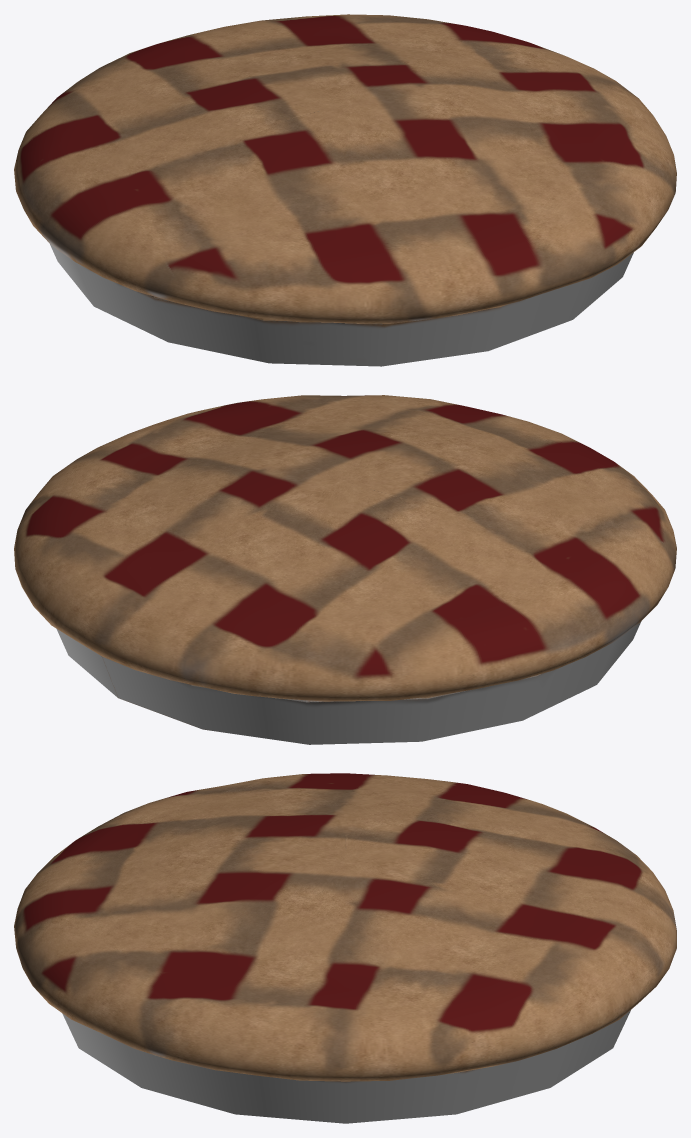
The model's file is cake.fbx.
3 renders of one model, top to bottom at view 1: azimuth 30°, elevation 25°; view 2: azimuth 150°, elevation 25°; view 3: azimuth 270°, elevation 25°, orthographic.
Visible parts, largest first — view 1: GeoSphere001, bottom; view 2: GeoSphere001, bottom; view 3: GeoSphere001, bottom.
Boxes of the visible parts, left/top/right/bottom form: GeoSphere001: left=14, top=14, right=676, bottom=323; bottom: left=50, top=244, right=633, bottom=366; GeoSphere001: left=14, top=395, right=676, bottom=701; bottom: left=56, top=621, right=641, bottom=744; GeoSphere001: left=14, top=773, right=676, bottom=1081; bottom: left=62, top=1010, right=630, bottom=1123.
Bounding box in the file's own units: 45.99 × 10.79 × 45.84.
